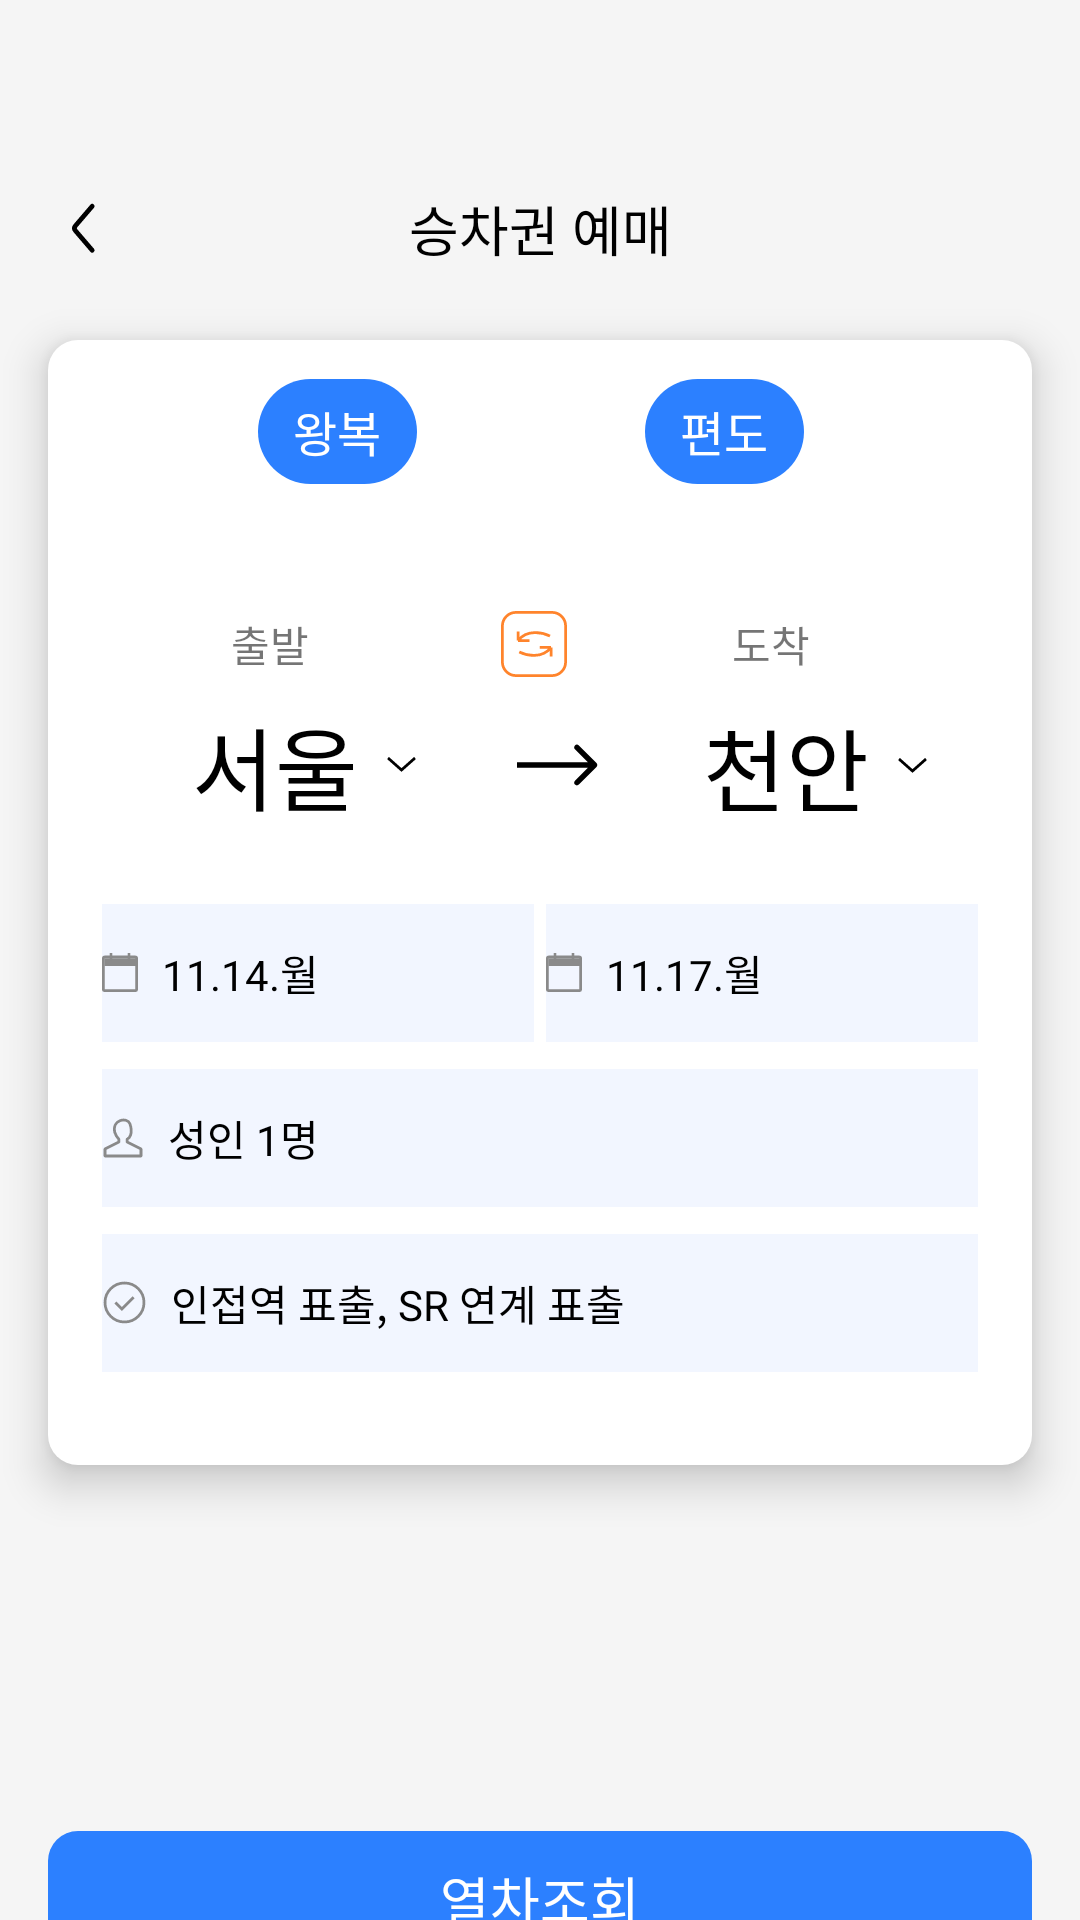

Icon click points for this 1080 x 1920 phone screenshot, format (x=x, y=y):
arrow: (x=557, y=765)
back: (x=83, y=228)
change: (x=534, y=644)
